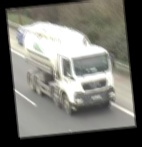truck: (21, 16, 117, 119)
